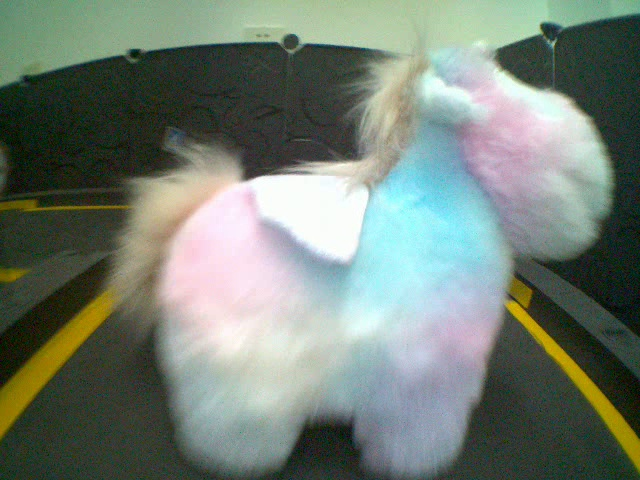unicorn: (106, 20, 617, 480)
